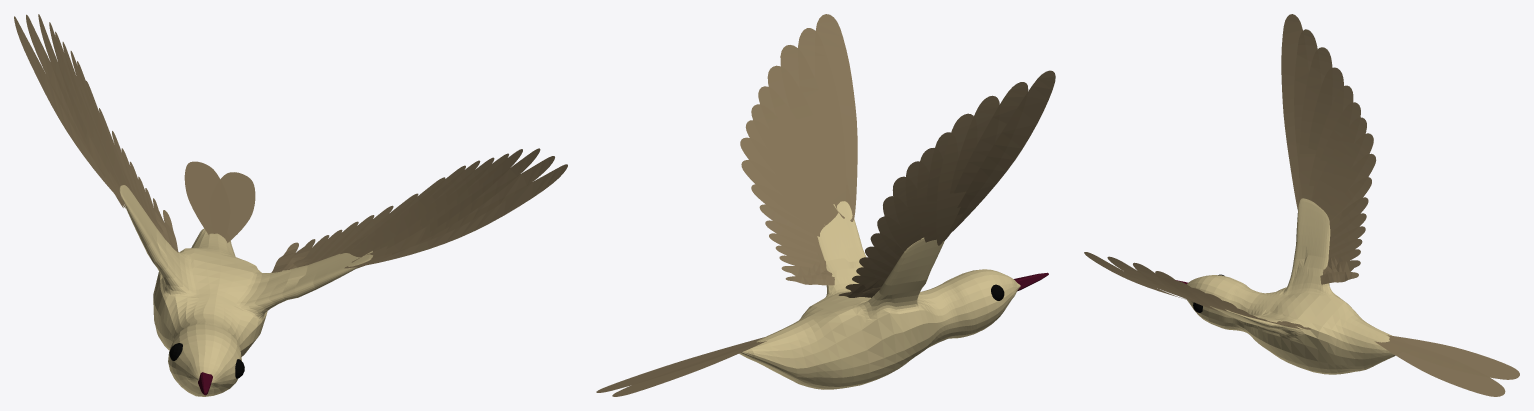
The model's file is bird1.obj.
3 views of the same model, side by side, from view 1: azimuth 30°, elevation 25°; view 2: azimuth 150°, elevation 25°; view 3: azimuth 270°, elevation 25° (orthographic). The views are drawn at different scales.
Parts seen in each view (by area): view 1: BirdBody25, Feather177, Feather180; view 2: BirdBody25, Feather177, Feather180; view 3: BirdBody25, Feather180, Feather177.
Boxes of the visible parts, box(x1,y1,x2,y2) form: BirdBody25: box(14, 14, 567, 396); Feather177: box(184, 161, 230, 238); Feather180: box(209, 172, 255, 242); BirdBody25: box(739, 14, 1055, 389); Feather177: box(612, 339, 766, 396); Feather180: box(596, 337, 763, 392); BirdBody25: box(1084, 14, 1395, 374); Feather180: box(1374, 338, 1505, 396); Feather177: box(1382, 335, 1519, 379).
Size of the model in its own units: 203 by 185 by 260.
